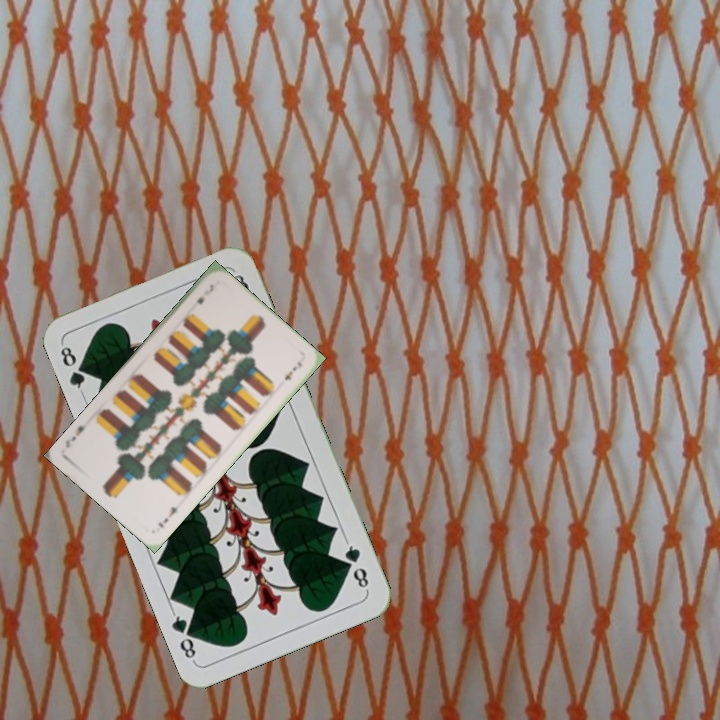E7: (154, 502, 180, 530), (193, 280, 217, 307)
G8: (56, 342, 93, 397), (340, 537, 372, 593)
